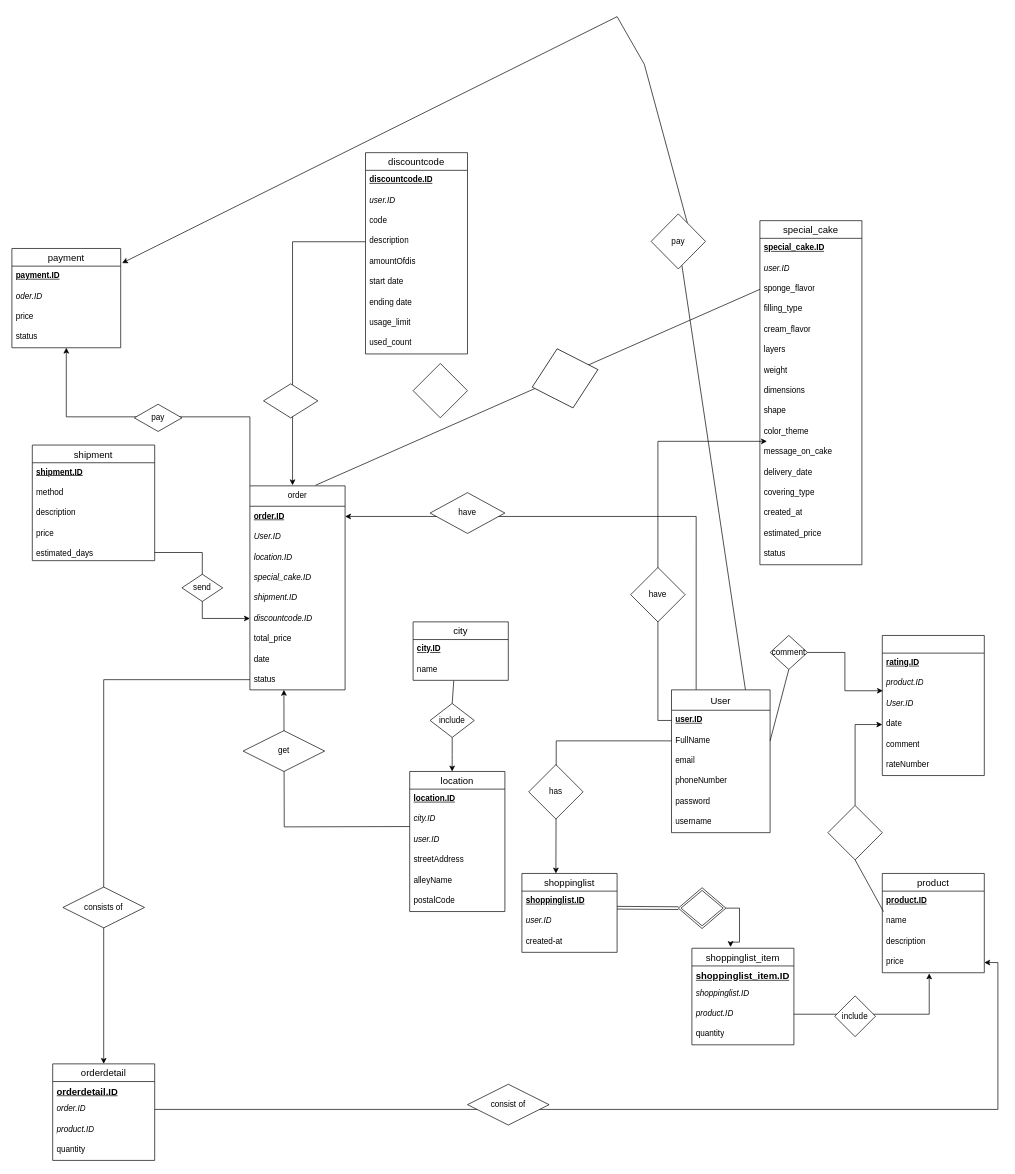
The diagram is 1015 pixels wide and 1174 high, and some of its shapes have lost their labels. Here are the shapes that lost their labels. From the top down, the box of each, then its label:
(524, 339, 606, 417): custome_made
(263, 383, 318, 418): use
(882, 635, 984, 776): rateComment
(827, 805, 882, 860): has reviews
(678, 887, 726, 929): contain
